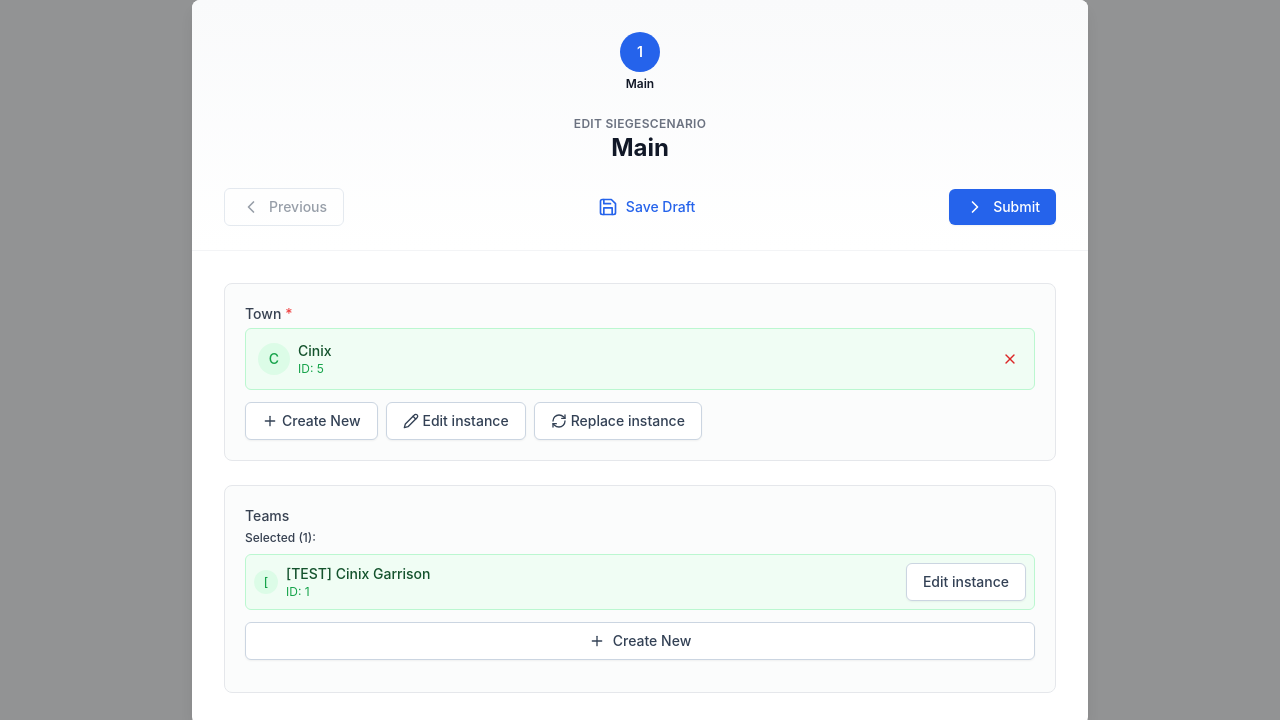
Scenario: Siege authoring: Scenario -> Team -> Spawnpoint owned nesting › opens a team, then a new spawnpoint inside it, each with its own workflow session, and persists the spawnpoint under the team
Expected: the text "Cinix" is shown, x1=298 y1=341 x2=332 y2=361
Expected: the text "[TEST] Cinix Garrison" is shown, x1=286 y1=565 x2=430 y2=582
Depth 1: edit the existing team.
Click the button "Edit instance" in the row of "[TEST] Cinix Garrison": [966, 582] box x1=906 y1=563 x2=1026 y2=601
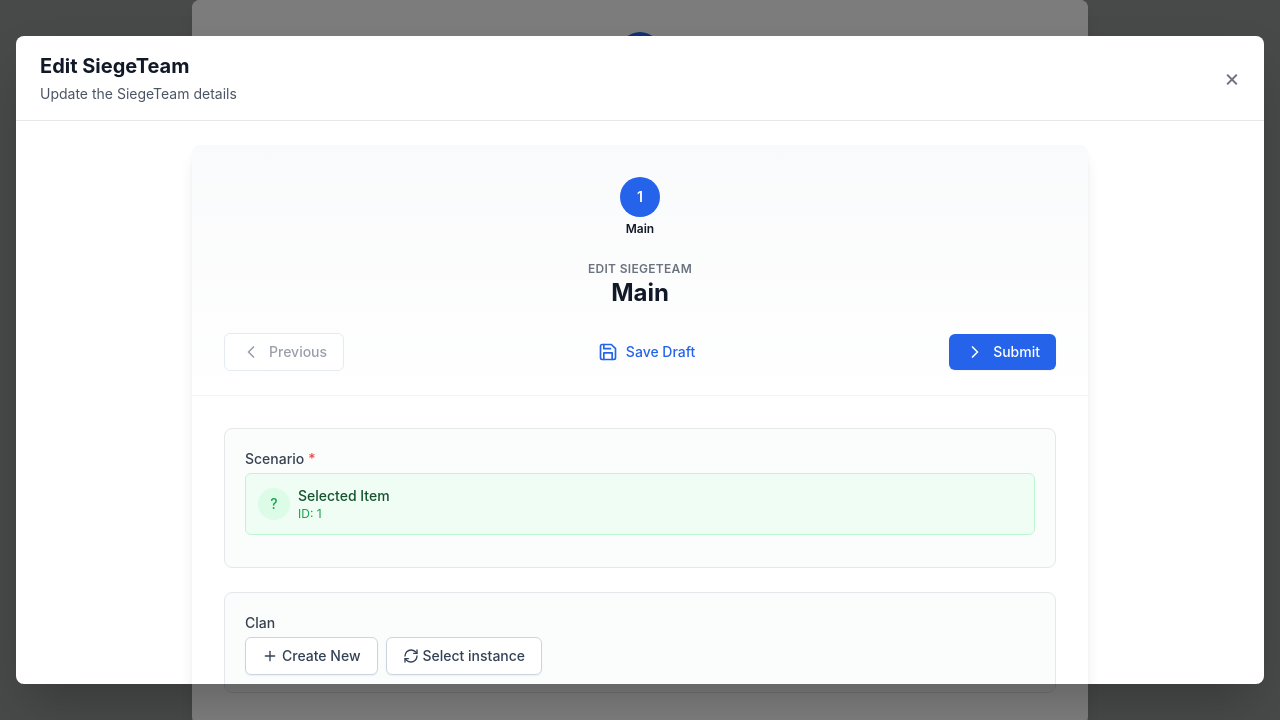
Expected: the heading "Edit SiegeTeam" is shown, x1=40 y1=54 x2=189 y2=78
Item 2: the Clan picker is ordered by the scenario's town (parent context, edit mode).
Click the button "Select instance": [464, 656] box x1=386 y1=637 x2=542 y2=675
(page scrolled)
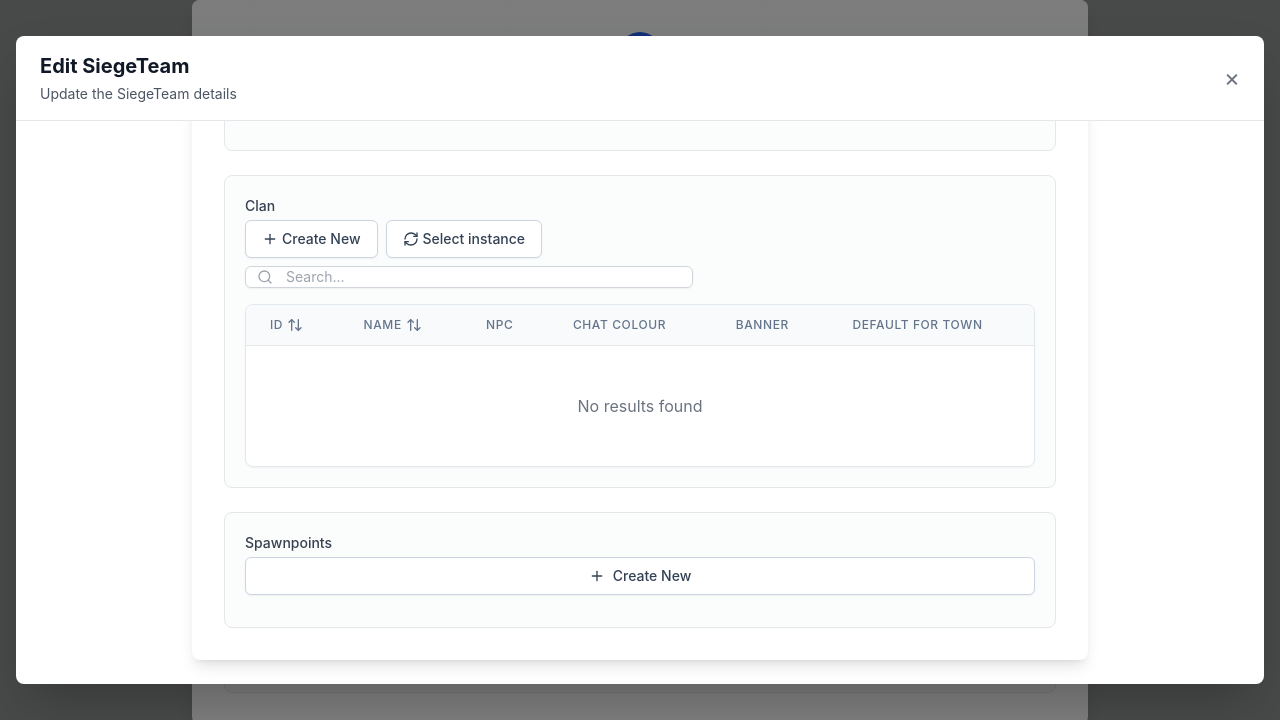
Expected: the button "Create New" below "Spawnpoints" is enabled
Depth 2: create a spawnpoint from inside the team.
Click the button "Create New" below "Spawnpoints": [640, 576] box x1=245 y1=557 x2=1035 y2=595
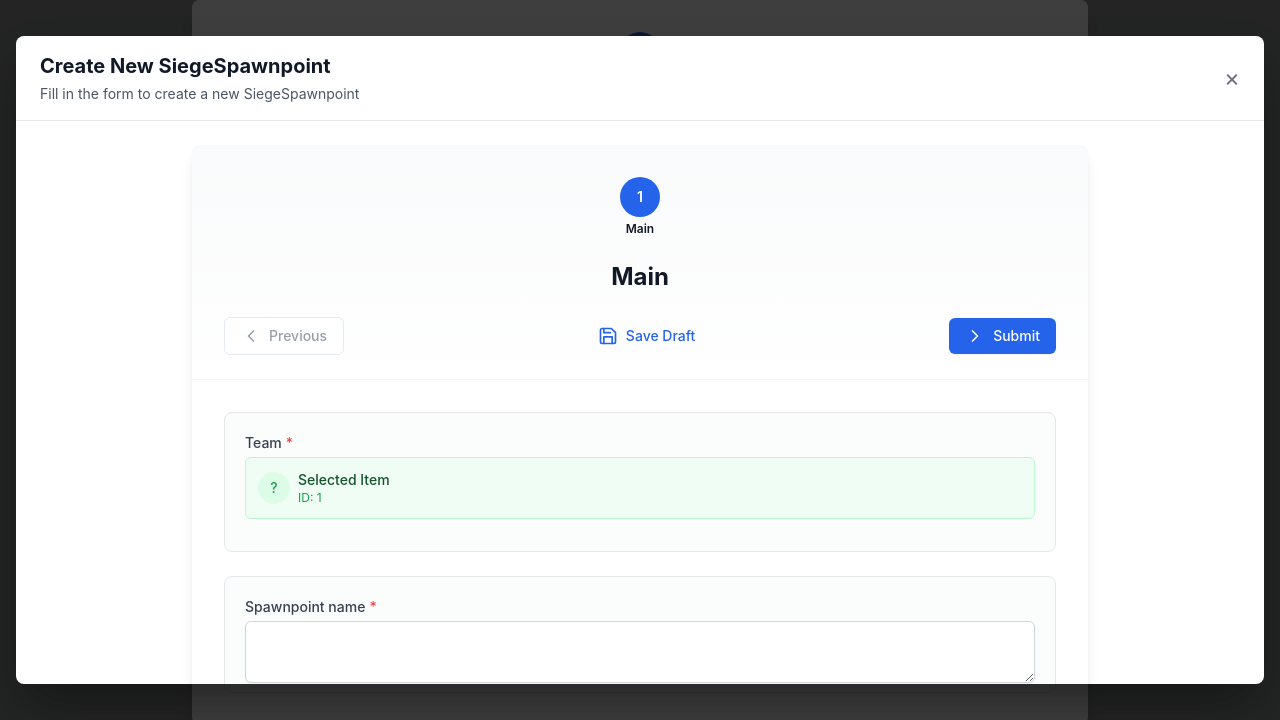
Expected: the heading "Create New SiegeSpawnpoint" is shown, x1=40 y1=52 x2=360 y2=80
Expected: the text "ID: 1" is shown, x1=298 y1=490 x2=322 y2=505
In the text box: [640, 652] box x1=245 y1=621 x2=1035 y2=683, type "Keep stairs"
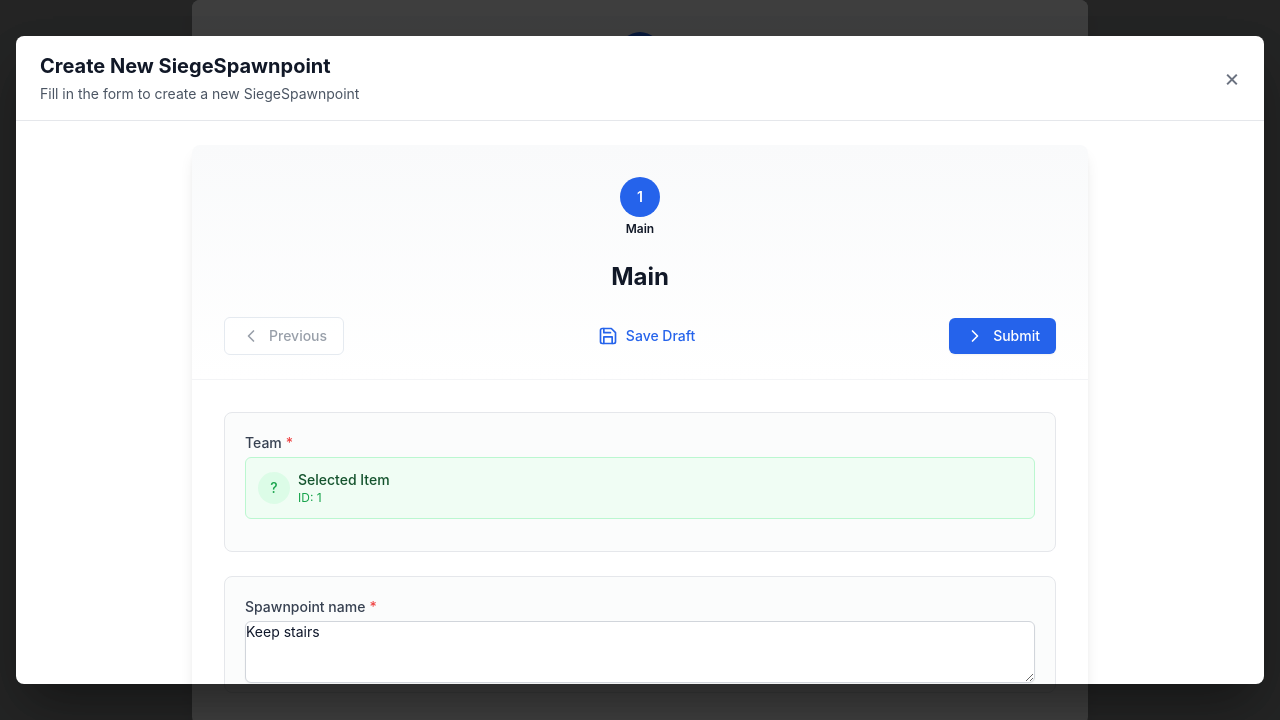
Click the button "Submit": [1003, 336] box x1=949 y1=318 x2=1056 y2=354
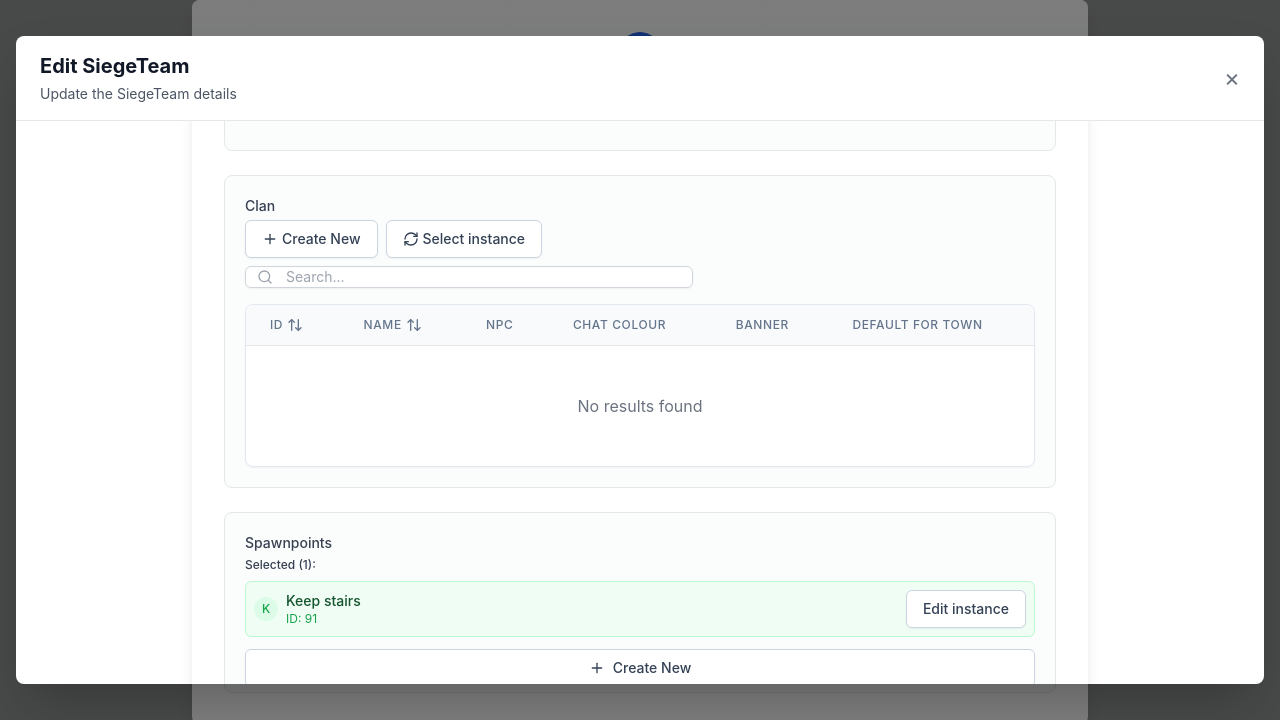
Expected: the heading "Create New SiegeSpawnpoint" is gone
Expected: the text "Keep stairs" is shown, x1=286 y1=592 x2=361 y2=609
